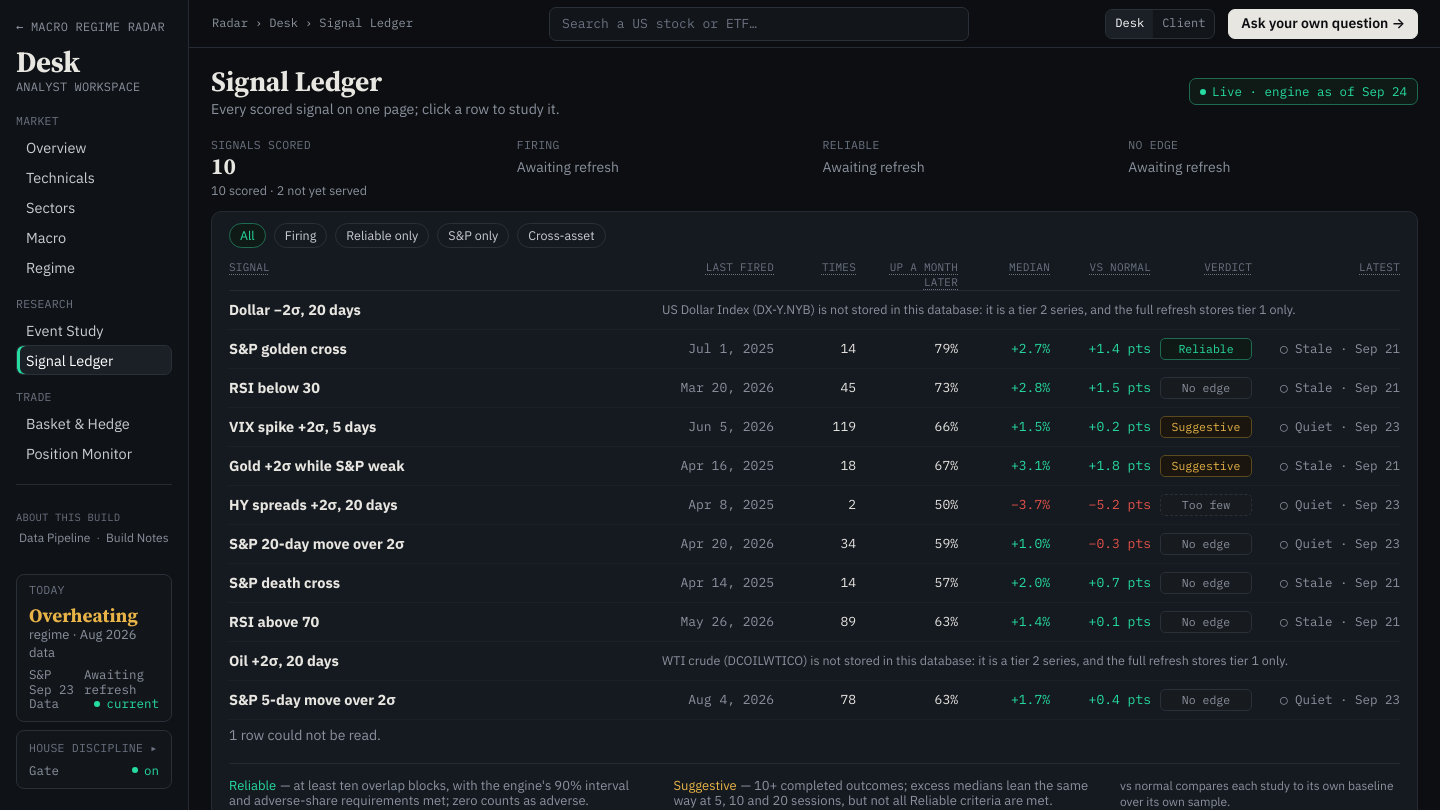
Test: R-16: rows the boundary drops are said; no total and no 'none' is read from what is left › the Ledger counts nothing from partial rows: the counts wait, the chip has no number, the page says a row was lost
Expected: the text "1 row could not be read." is shown, [229,726,381,744]
Expected: the text "Firing" shows "Awaiting refresh", [517,158,619,176]
Click the button "Firing" at coordinates (301, 236), box [274,223,327,248]
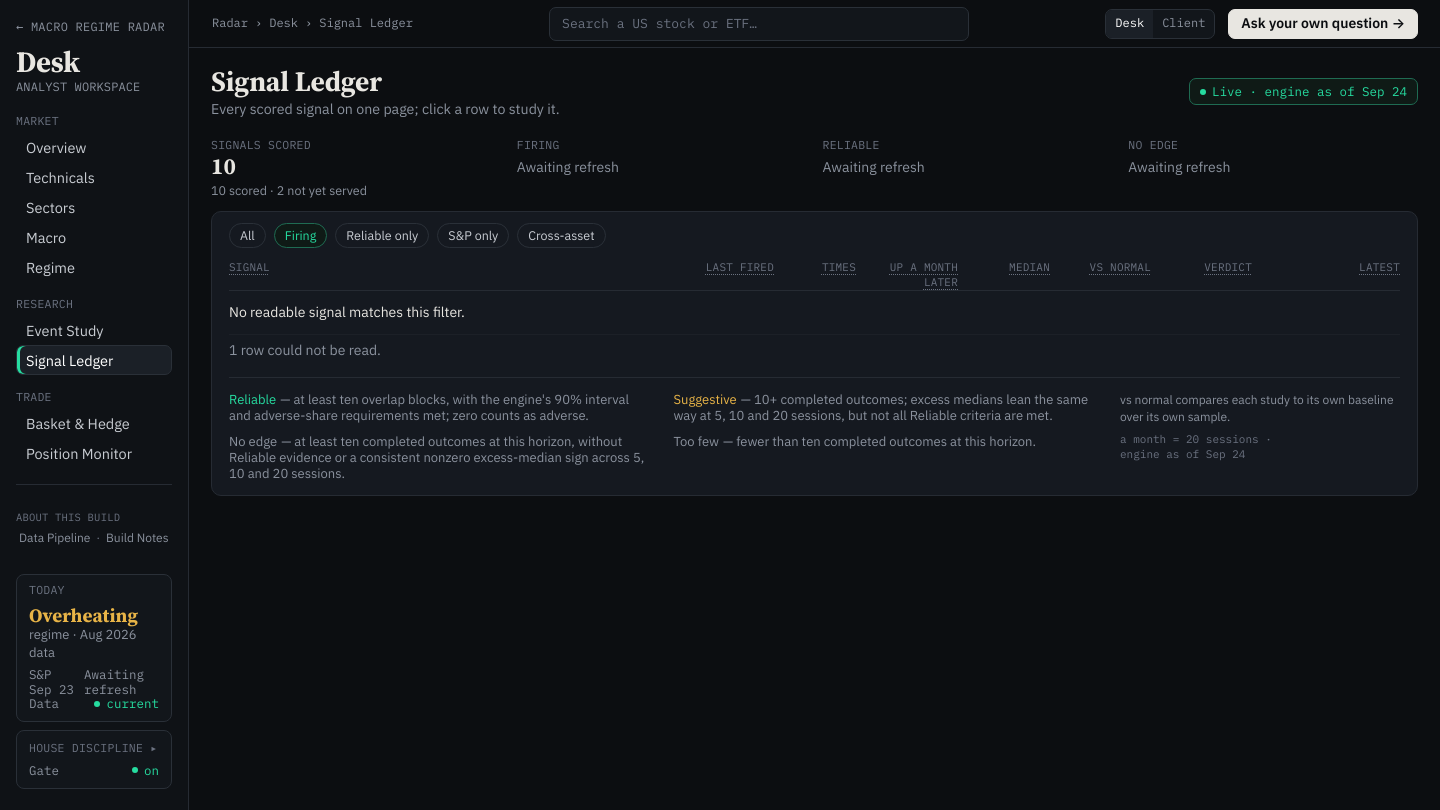
Expected: the text "No readable signal matches this filter." is shown, [229,290,1400,334]
